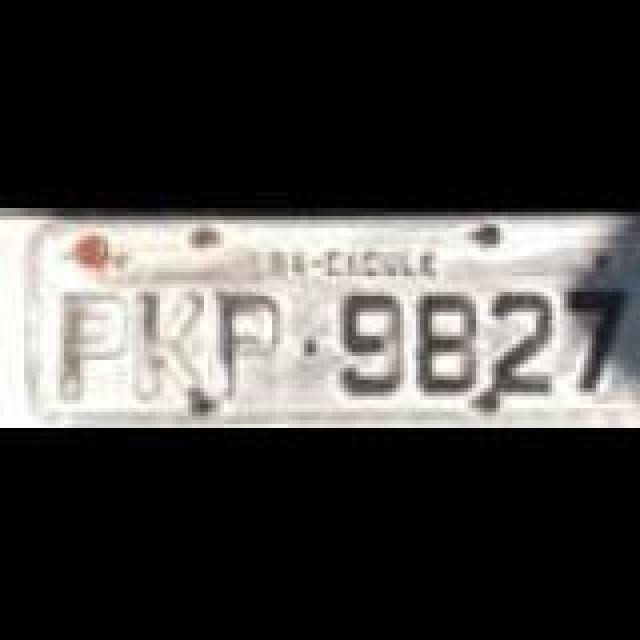2: (480, 288, 560, 400)
7: (558, 284, 626, 396)
8: (412, 284, 484, 396)
9: (336, 288, 400, 392)
K: (130, 284, 206, 404)
P: (56, 284, 136, 404), (216, 286, 288, 402)
